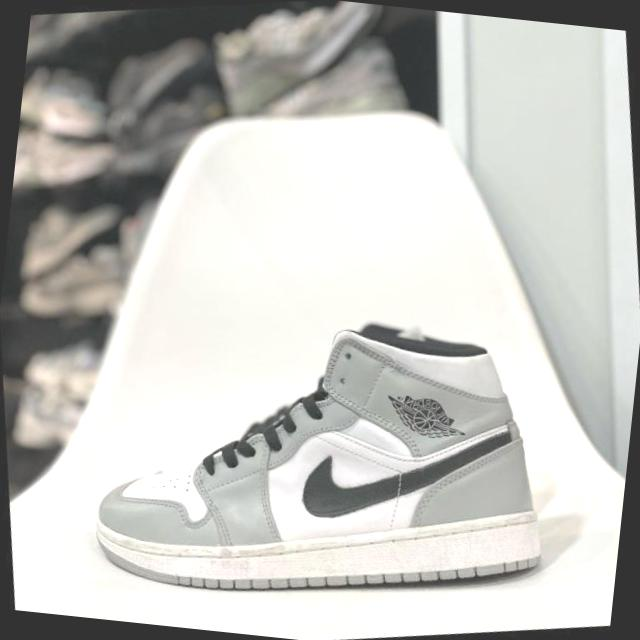nike_fake_jordan: (49, 267, 574, 640)
